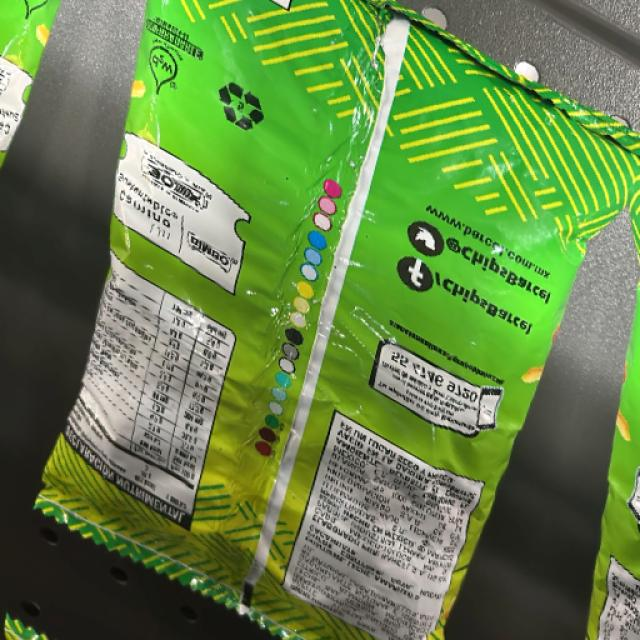productoAtras: (114, 0, 479, 640)
